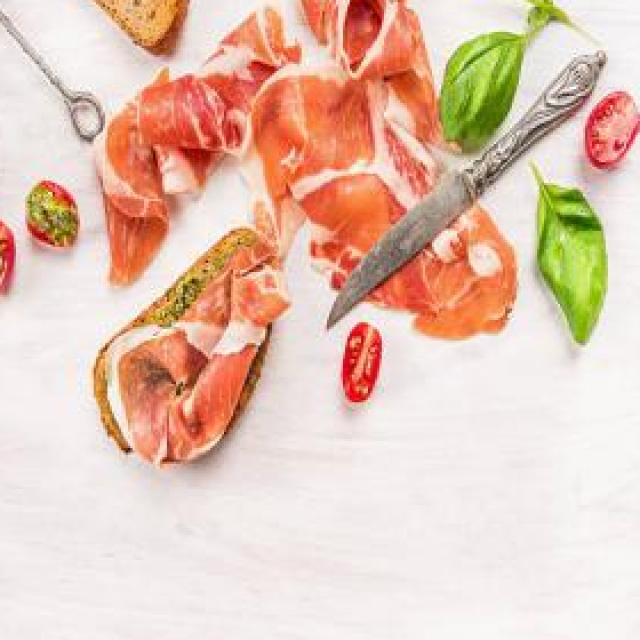knife: (321, 51, 606, 332)
